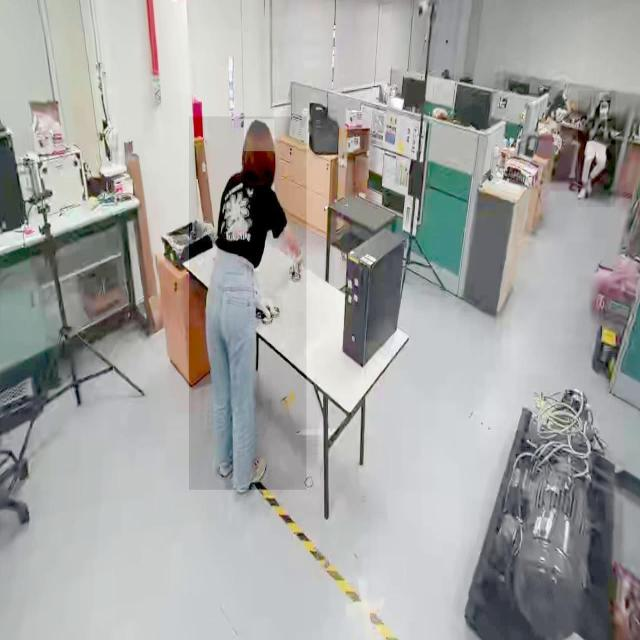face_mask: (600, 102, 610, 119)
hand_glove: (247, 296, 283, 324)
head_nohelmet: (244, 119, 275, 152), (600, 92, 610, 101)
person: (189, 117, 307, 490), (578, 91, 616, 208)
shoes: (235, 453, 268, 495)
